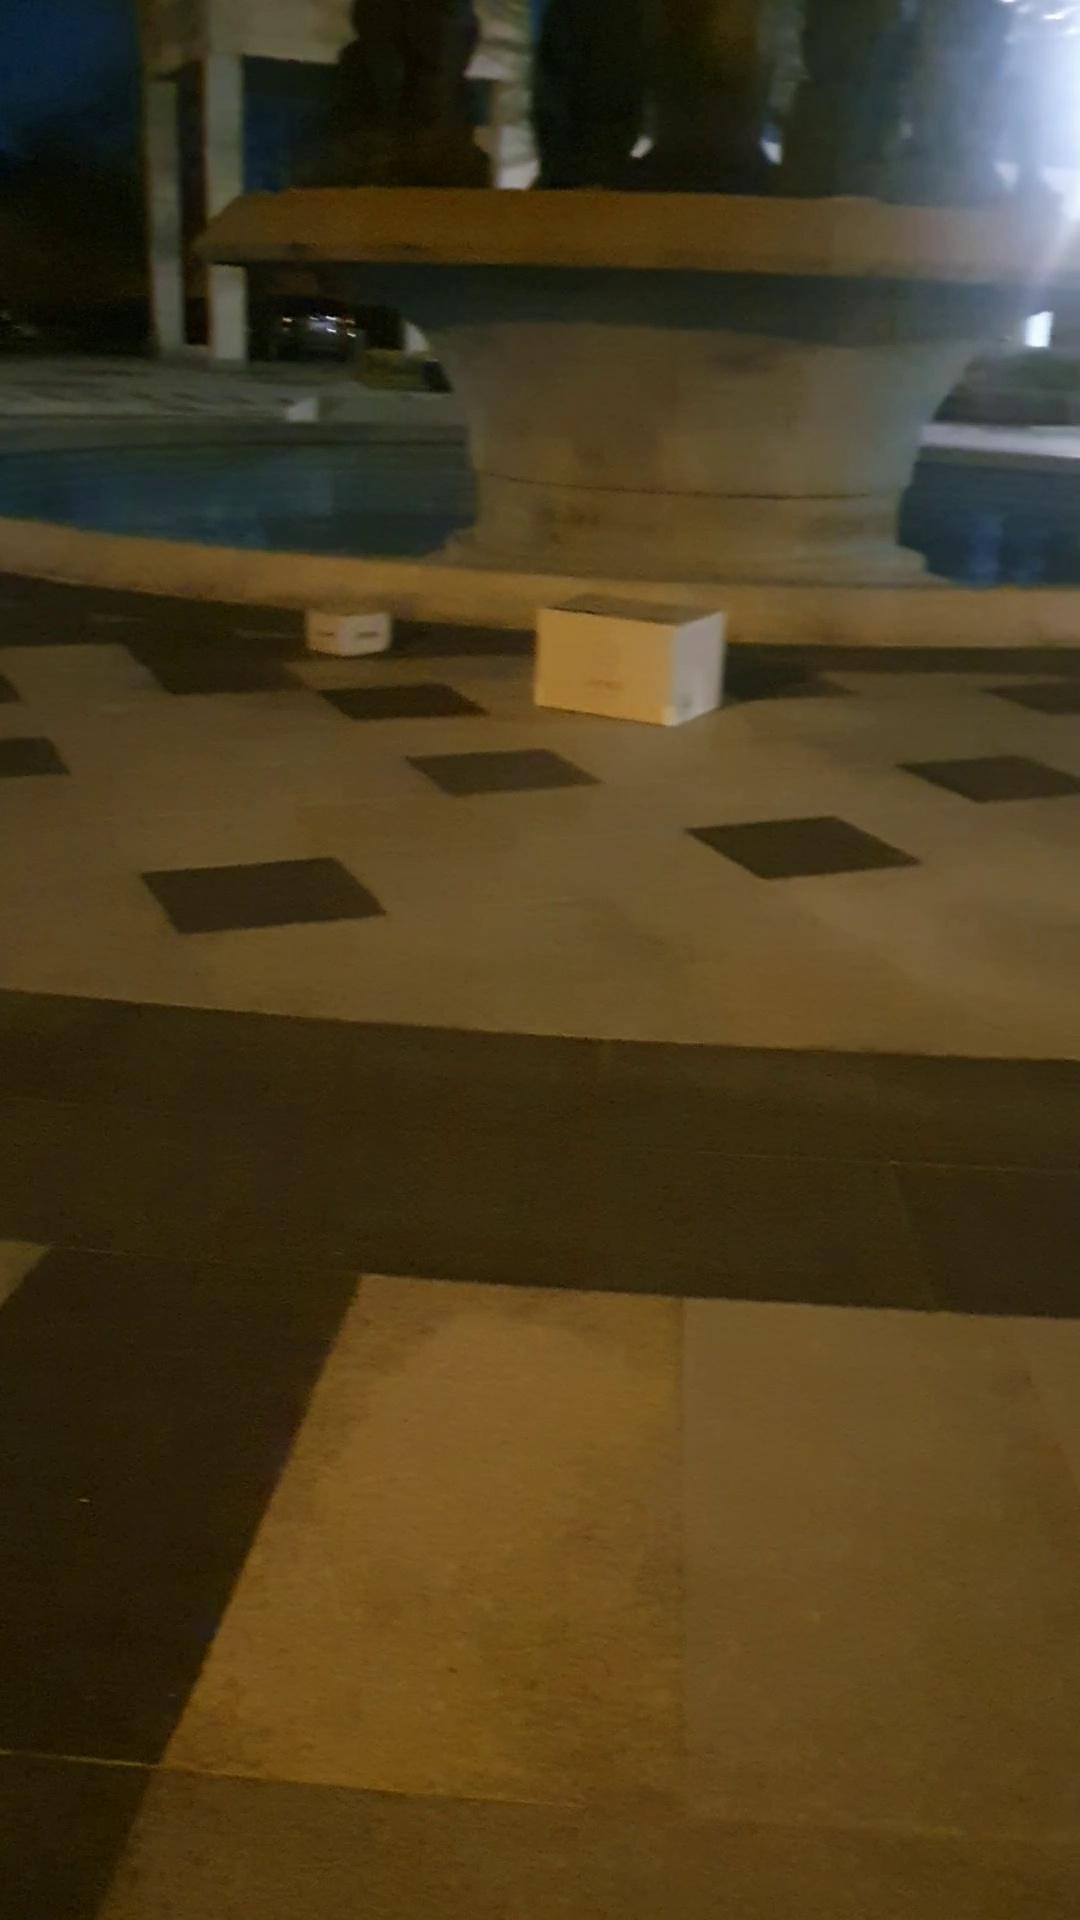Box: (526, 585, 735, 735), (301, 600, 405, 659)
